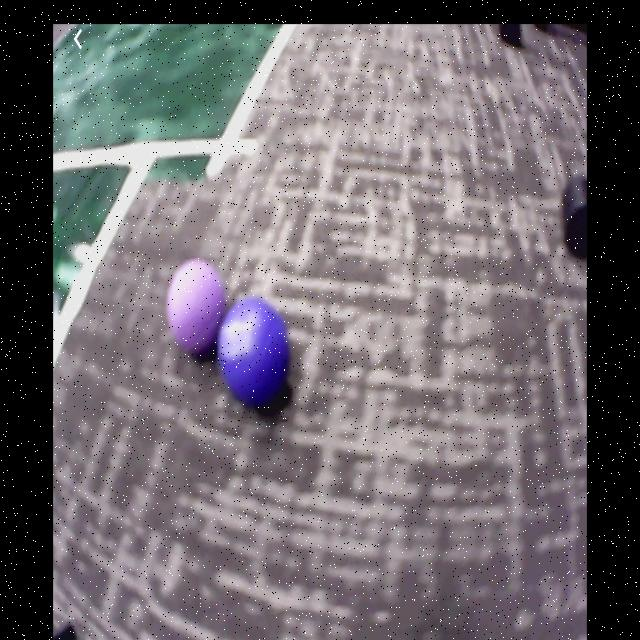ball: (219, 300, 292, 409), (168, 259, 226, 357)
